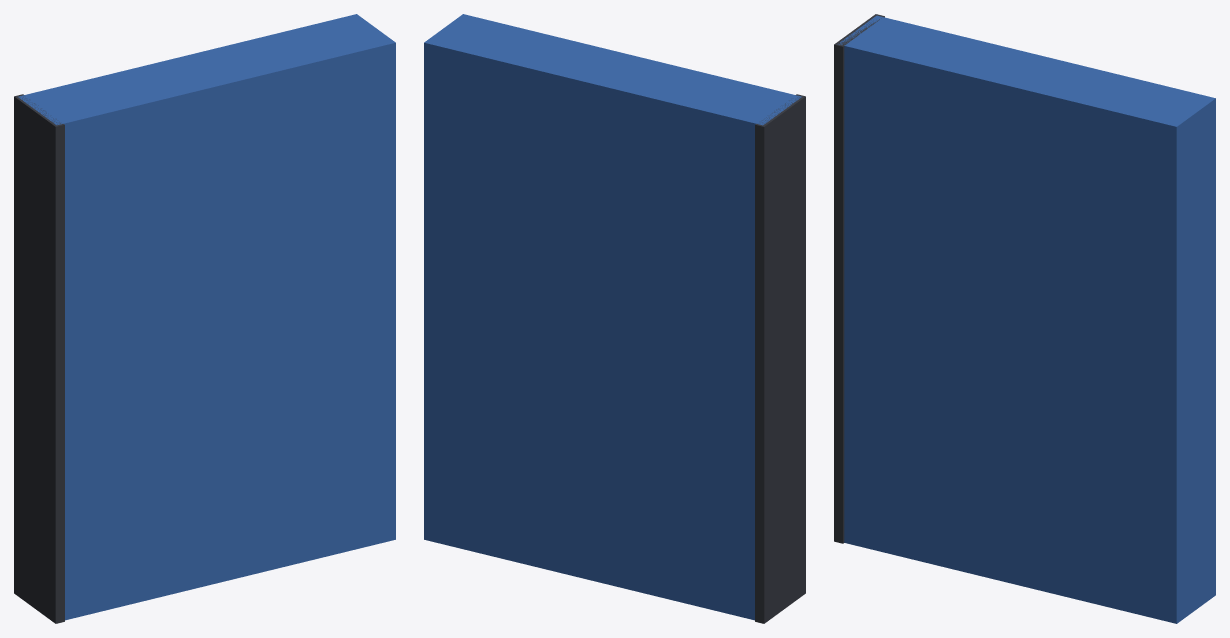
File: book.glb
3 views of the same model, side by side, from view 1: azimuth 30°, elevation 25°; view 2: azimuth 150°, elevation 25°; view 3: azimuth 330°, elevation 25° (orthographic).
Visible parts, largest first — view 1: box (×2); view 2: box (×2); view 3: box (×2).
Boxes of the visible parts, box(x1,y1,x2,y2) form: box (×2): box(14, 14, 395, 623); box (×2): box(424, 14, 805, 623); box (×2): box(834, 14, 1215, 623).
Size of the model in its own units: 0.151 by 0.21 by 0.032.
